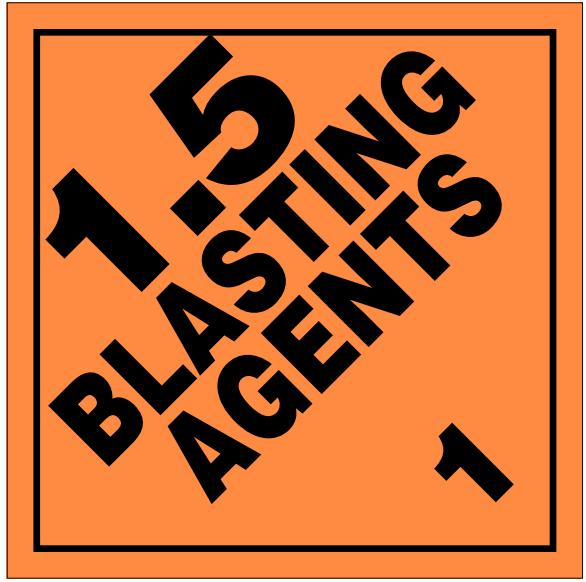explosive: (1, 1, 586, 582)
